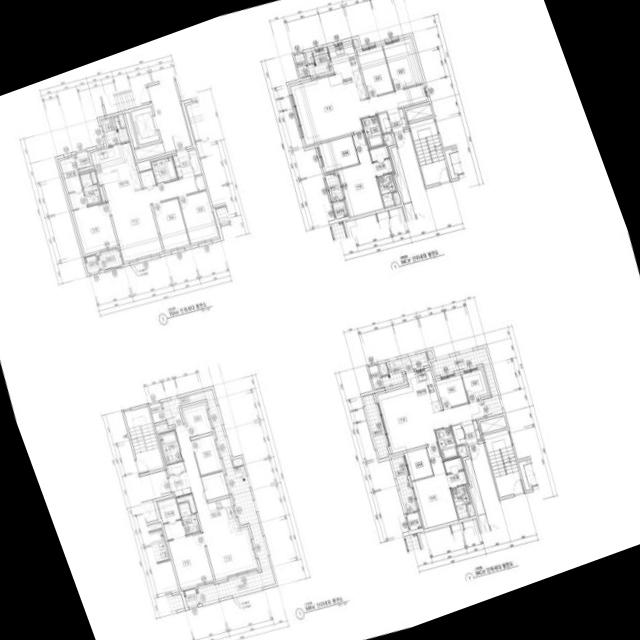background: (0, 0, 640, 640)
space_balconi: (162, 389, 275, 604), (432, 347, 503, 417), (362, 394, 389, 459), (381, 352, 429, 387), (391, 456, 416, 513), (101, 117, 128, 146), (307, 49, 333, 79), (97, 249, 122, 270), (325, 173, 343, 202)
space_bedroom: (338, 132, 384, 217), (412, 444, 458, 528), (168, 532, 213, 588), (73, 202, 117, 254), (178, 191, 218, 244), (383, 38, 422, 90), (152, 198, 189, 251), (357, 46, 393, 97), (191, 434, 222, 475), (435, 375, 467, 408), (183, 404, 211, 437), (461, 369, 487, 402)
space_dressroom: (59, 157, 86, 209), (157, 498, 185, 540), (369, 145, 393, 176), (443, 457, 467, 487)
space_elevator: (131, 106, 159, 145)
space_elevator_hall: (147, 80, 191, 152)
space_front: (172, 148, 194, 178), (168, 471, 191, 497), (387, 108, 407, 133), (460, 419, 481, 442)
space_kitchen: (90, 142, 141, 197), (328, 42, 367, 104), (405, 370, 441, 417), (207, 497, 238, 537)
space_living_room: (175, 426, 257, 579), (290, 74, 427, 145), (107, 175, 198, 261), (376, 386, 483, 453)
space_multipurpose_space: (318, 136, 358, 172), (404, 447, 433, 480)
space_other: (391, 146, 411, 204), (465, 458, 485, 515), (201, 471, 228, 500), (134, 142, 165, 160), (124, 112, 138, 148), (480, 415, 506, 433), (406, 104, 432, 121), (176, 494, 196, 513), (294, 53, 309, 78), (368, 365, 383, 390), (188, 149, 201, 175), (149, 402, 165, 423), (139, 169, 156, 187), (451, 424, 465, 445), (377, 112, 391, 133), (75, 151, 90, 169), (166, 461, 185, 474), (195, 175, 205, 191), (382, 133, 392, 145), (457, 445, 467, 456), (379, 363, 388, 375), (392, 192, 400, 205), (155, 423, 168, 431), (232, 457, 243, 466), (466, 504, 474, 516), (99, 186, 105, 201), (90, 171, 97, 183), (118, 115, 125, 127), (306, 53, 314, 63), (426, 350, 433, 359), (353, 40, 358, 48)
space_outdoor_room: (84, 255, 100, 273), (332, 200, 347, 219), (406, 512, 421, 531), (183, 589, 198, 607)
space_staircase: (124, 406, 164, 474), (484, 429, 524, 497), (409, 118, 449, 185)
space_toilet: (361, 115, 384, 149), (159, 430, 182, 464), (435, 427, 458, 460), (79, 172, 102, 205), (151, 156, 177, 184), (178, 502, 200, 535), (376, 173, 396, 208), (450, 485, 470, 519)
